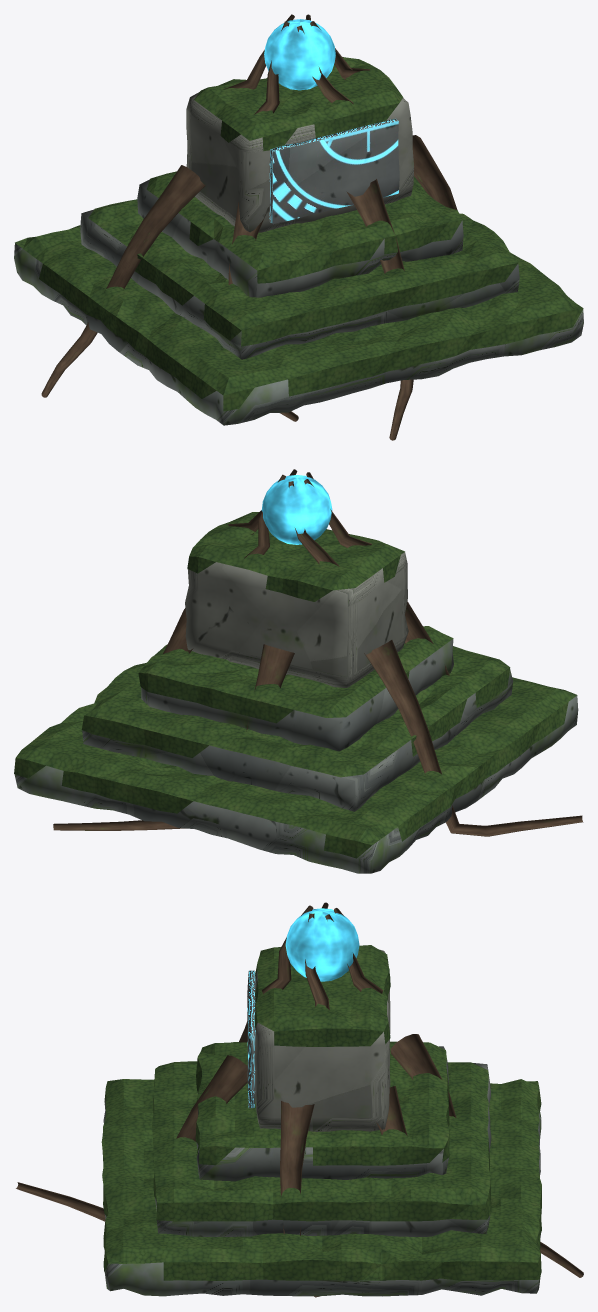
Rendered from forest_shrine_altar.glb.
3 views of the same model, one above another, from view 1: azimuth 30°, elevation 25°; view 2: azimuth 150°, elevation 25°; view 3: azimuth 270°, elevation 25° (orthographic). The views are drawn at different scales.
Parts seen in each view (by area): view 1: forest_shrine_altar__moss, forest_shrine_altar__stone_block, forest_shrine_altar__root, forest_shrine_altar__stone_pale, forest_shrine_altar__rune_stone, forest_shrine_altar__crystal_cyan; view 2: forest_shrine_altar__moss, forest_shrine_altar__stone_block, forest_shrine_altar__stone_pale, forest_shrine_altar__root, forest_shrine_altar__crystal_cyan; view 3: forest_shrine_altar__moss, forest_shrine_altar__stone_block, forest_shrine_altar__stone_pale, forest_shrine_altar__root, forest_shrine_altar__crystal_cyan, forest_shrine_altar__rune_stone.
Boxes of the visible parts, x1,y1,x2,y2 form: forest_shrine_altar__moss: [15, 57, 583, 411]; forest_shrine_altar__stone_block: [14, 179, 583, 425]; forest_shrine_altar__root: [41, 14, 457, 440]; forest_shrine_altar__stone_pale: [186, 92, 413, 232]; forest_shrine_altar__rune_stone: [269, 118, 399, 223]; forest_shrine_altar__crystal_cyan: [264, 19, 335, 90]; forest_shrine_altar__moss: [14, 512, 577, 858]; forest_shrine_altar__stone_block: [14, 639, 578, 873]; forest_shrine_altar__stone_pale: [185, 552, 408, 687]; forest_shrine_altar__root: [53, 469, 583, 836]; forest_shrine_altar__crystal_cyan: [261, 475, 332, 544]; forest_shrine_altar__moss: [101, 945, 541, 1280]; forest_shrine_altar__stone_block: [103, 1046, 541, 1296]; forest_shrine_altar__stone_pale: [254, 949, 390, 1131]; forest_shrine_altar__root: [16, 902, 583, 1297]; forest_shrine_altar__crystal_cyan: [285, 908, 359, 981]; forest_shrine_altar__rune_stone: [247, 970, 255, 1108].
Bounding box in the file's own units: 3.26 × 2.06 × 3.39.
7 materials, 6 textured.
